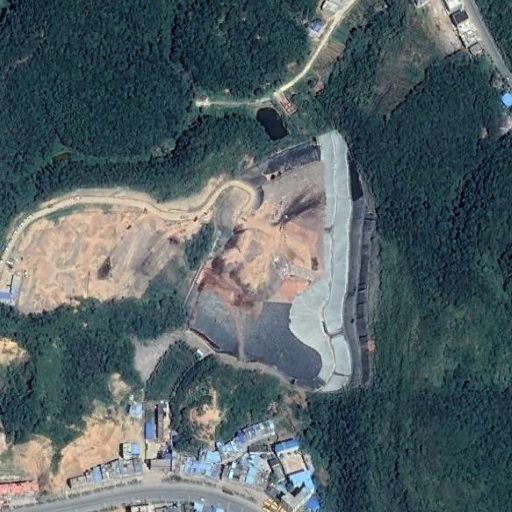lf: (200, 129, 372, 391)
